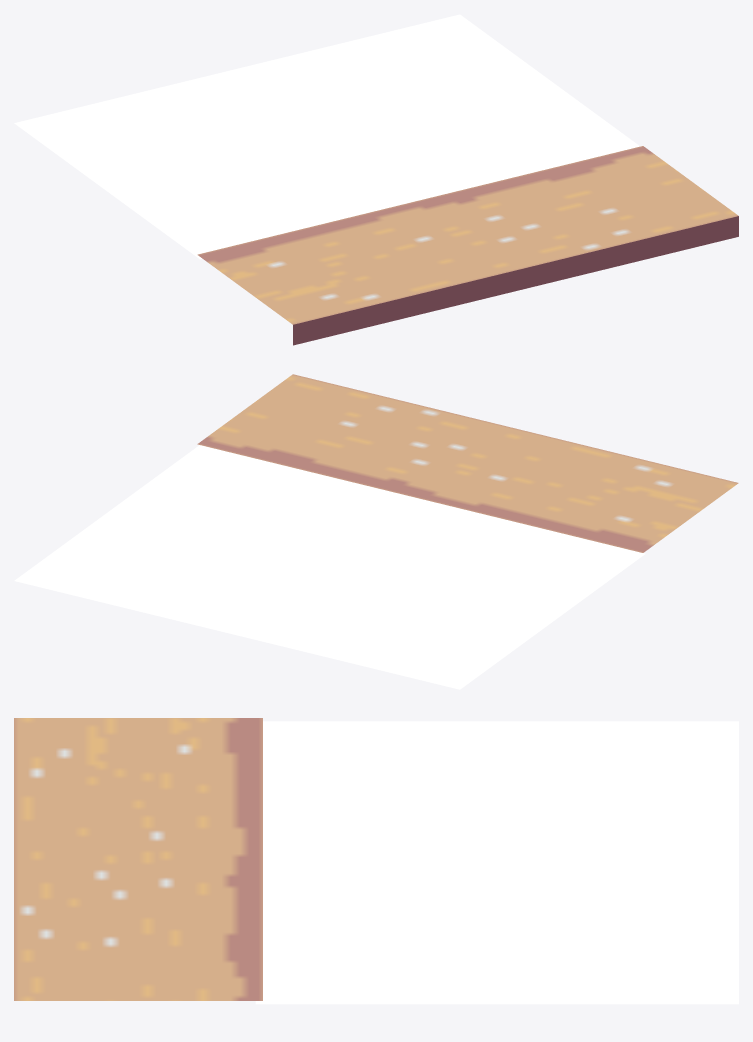
The model's file is beach.glb.
The picture shows the model from 3 angles, top to bottom: view 1: azimuth 30°, elevation 25°; view 2: azimuth 150°, elevation 25°; view 3: azimuth 270°, elevation 25°; orthographic projection. The views are drawn at different scales.
Visible parts, largest first — view 1: Sea, Sand; view 2: Sea, Sand; view 3: Sea, Sand.
Boxes of the visible parts, left/top/right/bottom form: Sea: left=14, top=14, right=639, bottom=259; Sand: left=197, top=146, right=738, bottom=345; Sea: left=14, top=445, right=645, bottom=689; Sand: left=197, top=374, right=738, bottom=552; Sea: left=255, top=721, right=738, bottom=1004; Sand: left=14, top=718, right=262, bottom=1000.
Size of the model in its own units: 18 by 0.8 by 19.5.
3 materials, 2 textured.
